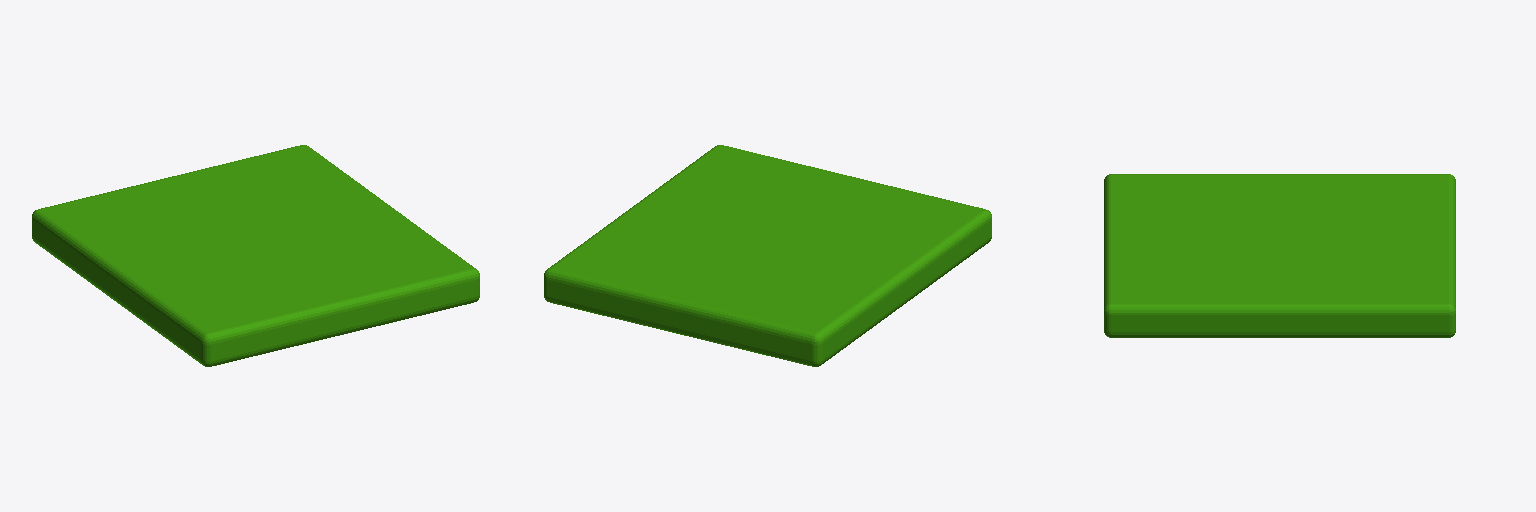
The model's file is GreenMat.obj.
The picture shows the model from 3 angles: view 1: azimuth 30°, elevation 25°; view 2: azimuth 150°, elevation 25°; view 3: azimuth 270°, elevation 25°; orthographic projection.
Parts seen in each view (by area): view 1: Green_Mat_Plane.011; view 2: Green_Mat_Plane.011; view 3: Green_Mat_Plane.011.
Part boxes in pixels (x1,y1,x2,y2): Green_Mat_Plane.011: (32,145,479,366); Green_Mat_Plane.011: (544,145,991,366); Green_Mat_Plane.011: (1104,174,1455,337).
Bounding box in the file's own units: 0.8763 × 0.1011 × 0.9621.